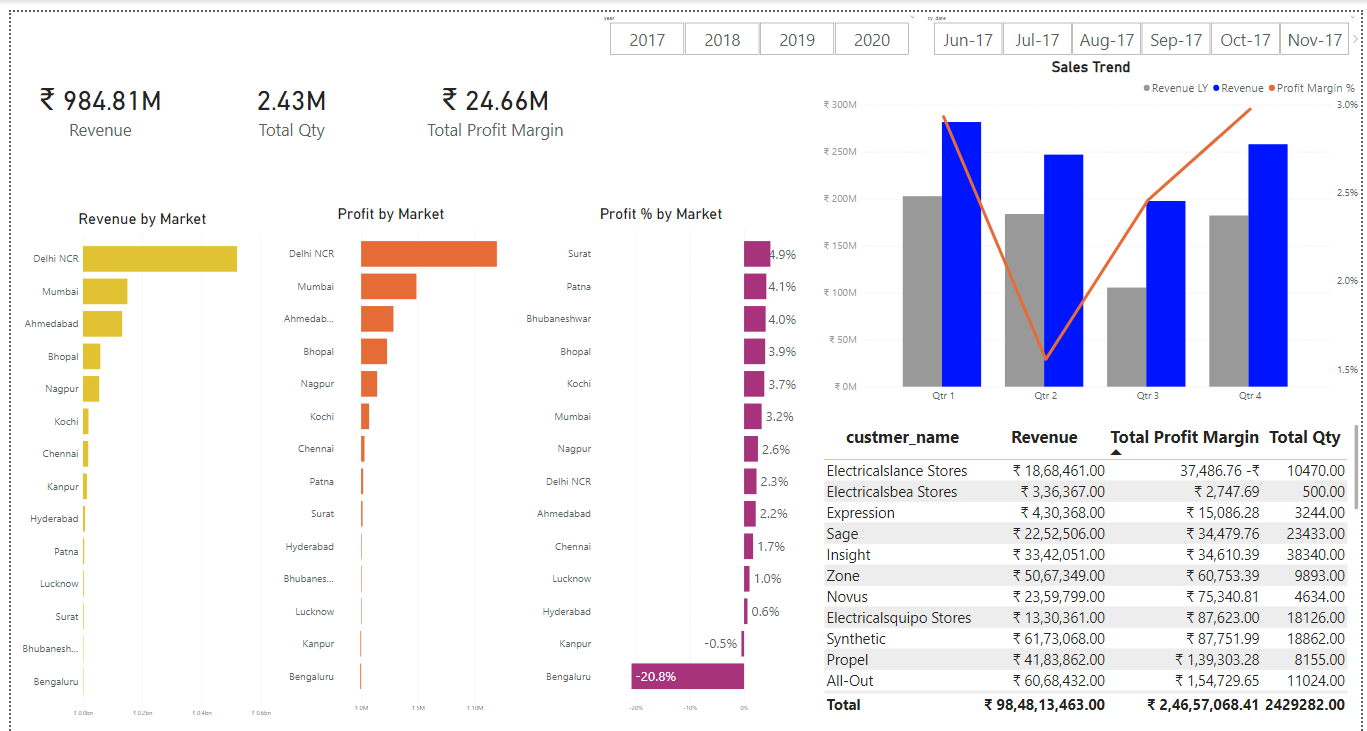

This screenshot's page, from the dashboard's own definition file:
{"tool":"powerbi","page":{"name":"Page 1","canvas":[2700,1450],"ordinal":0},"visuals":[{"type":"card","fields":{"Values":["Base Measures.Revenue"]},"box":[0,0,357.5,385],"z":0},{"type":"card","fields":{"Values":["Base Measures.Total Qty"]},"box":[357.5,0,407.5,385],"z":1000},{"type":"card","fields":{"Values":["Base Measures.Total Profit Margin"]},"box":[765,0,407.5,385],"z":2000},{"type":"slicer","fields":{"Values":["sales date.year"]},"box":[1172.5,0,647.5,92.5],"z":3000},{"type":"slicer","fields":{"Values":["sales date.cy_date"]},"box":[1820,0,880,92.5],"z":3001},{"type":"barChart","title":"Revenue by Market","fields":{"Y":["Base Measures.Revenue"],"Category":["sales markets.zone","sales markets.markets_name"]},"box":[0,395,525,1025],"z":3002},{"type":"barChart","title":"Profit by Market","fields":{"Y":["Base Measures.Total Profit Margin"],"Category":["sales markets.zone","sales markets.markets_name"]},"box":[525,385,470,1025],"z":3003},{"type":"lineClusteredColumnComboChart","title":"Sales Trend","fields":{"Category":["sales date.cy_date.Variation.Date Hierarchy.Year","sales date.cy_date.Variation.Date Hierarchy.Quarter","sales date.cy_date.Variation.Date Hierarchy.Month"],"Y":["Base Measures.Revenue LY","Base Measures.Revenue"],"Y2":["Base Measures.Profit Margin %"]},"box":[1620,92.5,1080,697.5],"z":3006},{"type":"tableEx","fields":{"Values":["sales customers.custmer_name","Base Measures.Revenue","Base Measures.Total Profit Margin","Base Measures.Total Qty"]},"box":[1620,820,1080,590],"z":3007},{"type":"barChart","title":"Profit % by Market","fields":{"Y":["Base Measures.Profit Margin %"],"Category":["sales markets.zone","sales markets.markets_name"]},"box":[1015,385,570,1025],"z":3008}]}

Visuals, with their boxes in screenshot pixels (x1, y1, x2, y2), scaled from the page's 2700x1450 canvas onto the 1367x731 screenshot:
card - Base Measures.Revenue: crop(0, 0, 181, 194)
card - Base Measures.Total Qty: crop(181, 0, 387, 194)
card - Base Measures.Total Profit Margin: crop(387, 0, 594, 194)
slicer - sales date.year: crop(594, 0, 921, 47)
slicer - sales date.cy_date: crop(921, 0, 1366, 47)
"Revenue by Market" barChart: crop(0, 199, 266, 716)
"Profit by Market" barChart: crop(266, 194, 504, 711)
"Sales Trend" lineClusteredColumnComboChart: crop(820, 47, 1366, 398)
tableEx - sales customers.custmer_name x Base Measures.Revenue: crop(820, 413, 1366, 711)
"Profit % by Market" barChart: crop(514, 194, 802, 711)
